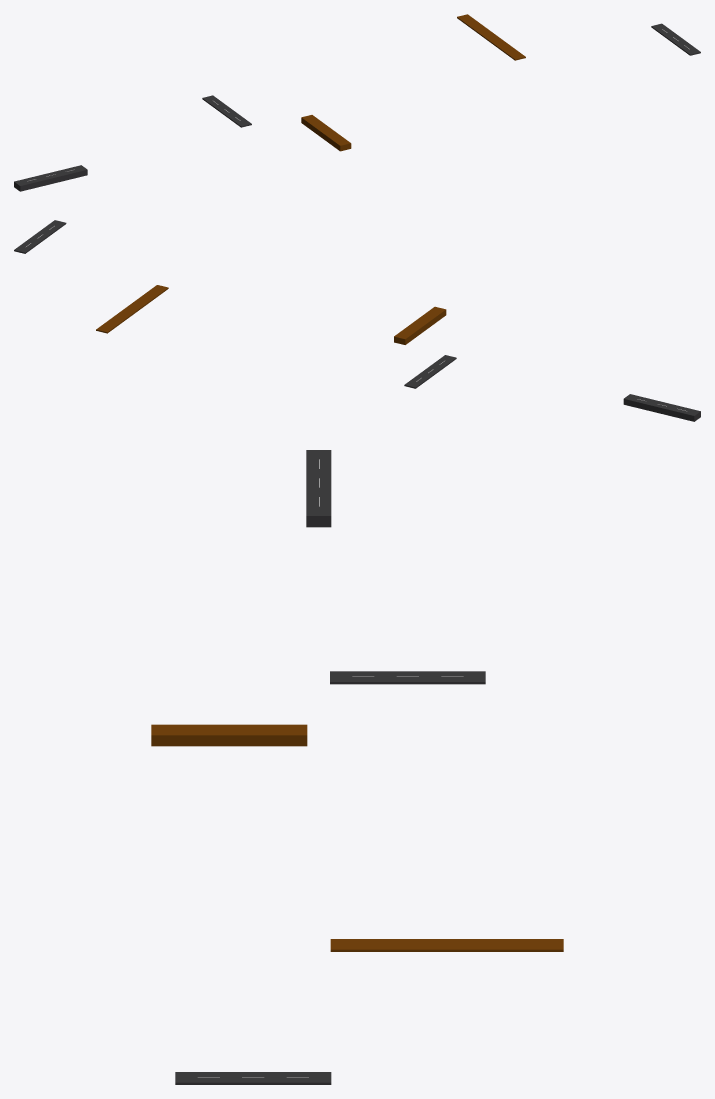
Rendered from Road.glb.
3 renders of one model, top to bottom at view 1: azimuth 30°, elevation 25°; view 2: azimuth 150°, elevation 25°; view 3: azimuth 270°, elevation 25°, orthographic. The views are drawn at different scales.
Visible parts, largest first — view 1: Road, DirtRoad.001, DirtRoad, Road.001, Road.002; view 2: Road, DirtRoad.001, DirtRoad, Road.001, Road.002; view 3: DirtRoad, DirtRoad.001, Road.001, Road.002, Road.
Part boxes in pixels (x1,y1,x2,y2): Road: (14,165,87,191); DirtRoad.001: (457,14,525,60); DirtRoad: (301,115,351,151); Road.001: (202,95,251,127); Road.002: (651,23,700,55); Road: (623,394,700,421); DirtRoad.001: (96,285,168,333); DirtRoad: (394,306,446,344); Road.001: (404,355,456,388); Road.002: (14,220,66,253); DirtRoad: (151,724,307,746); DirtRoad.001: (330,939,563,951); Road.001: (330,671,485,684); Road.002: (175,1072,331,1084); Road: (306,450,331,527).
Bounding box in the file's own units: 422 × 3.49 × 116.
